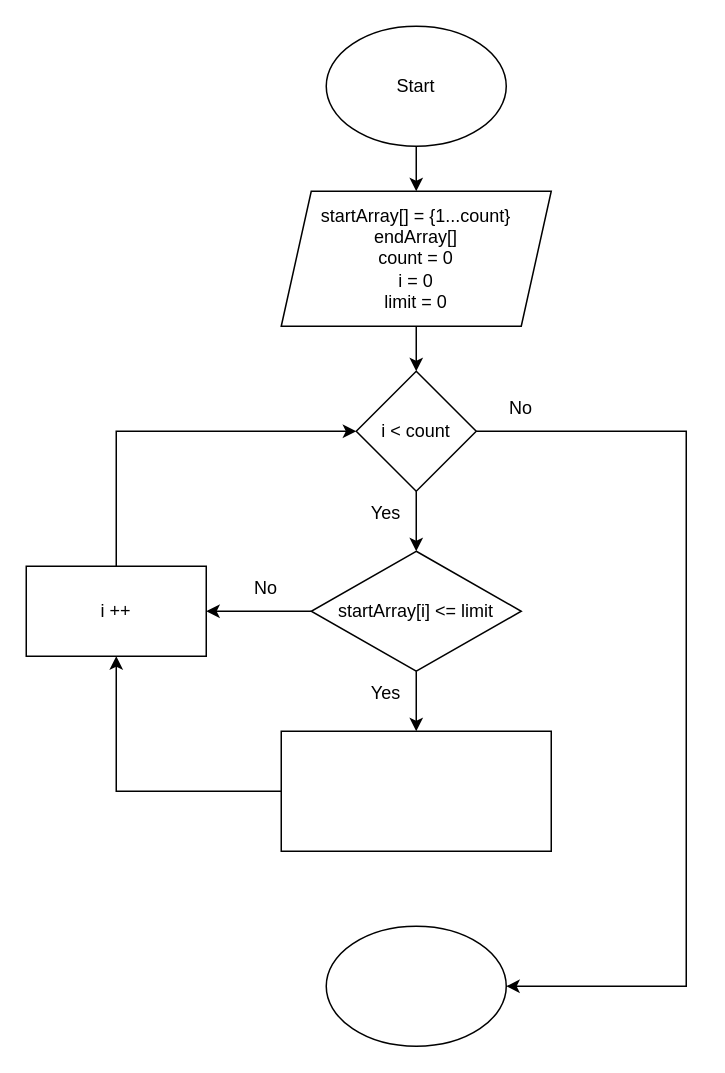
The diagram is 725 pixels wide and 1073 high, and some of its shapes have lost their labels. The centre of each missing label's shape, as x and y in pixels:
End: (x=415, y=985)
endArrai[index] = startArrai[i] index++: (x=415, y=790)
